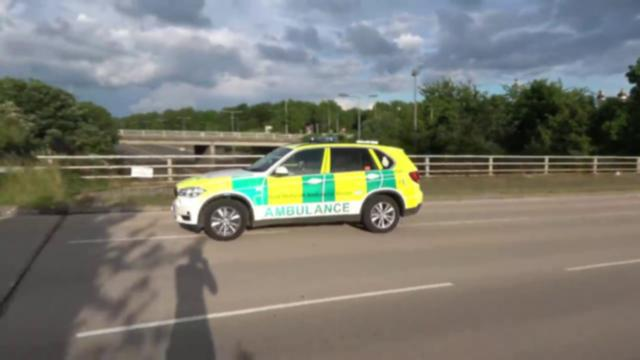police: (175, 141, 424, 237)
